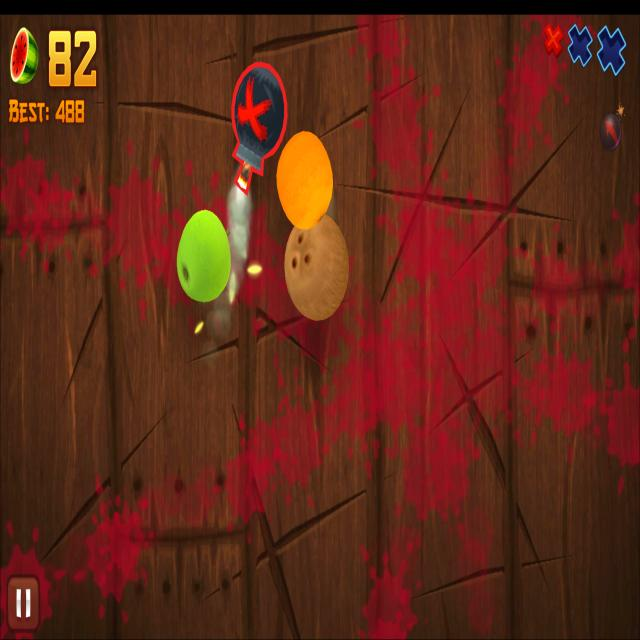bomb: (229, 61, 288, 196)
fruit: (284, 214, 349, 322), (277, 131, 334, 229), (178, 209, 230, 302)
